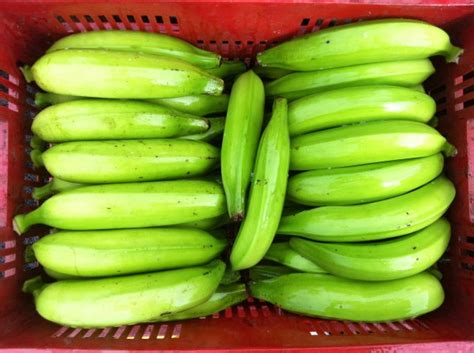banana: (29, 255, 228, 330), (228, 94, 295, 275), (278, 180, 461, 246), (287, 216, 456, 286), (11, 179, 229, 232), (255, 19, 462, 73), (24, 46, 223, 100), (240, 271, 450, 322), (20, 228, 227, 278), (28, 135, 222, 185), (24, 93, 215, 143), (279, 122, 459, 173), (217, 64, 267, 220), (276, 84, 448, 128)
